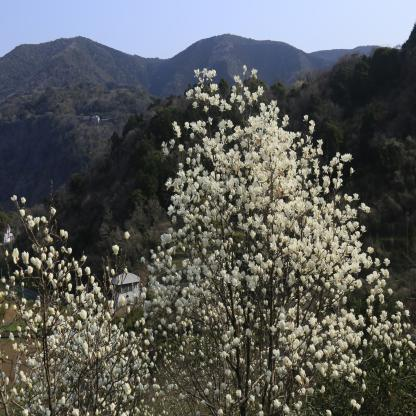Mokuren: (143, 63, 416, 416), (0, 186, 143, 416)
